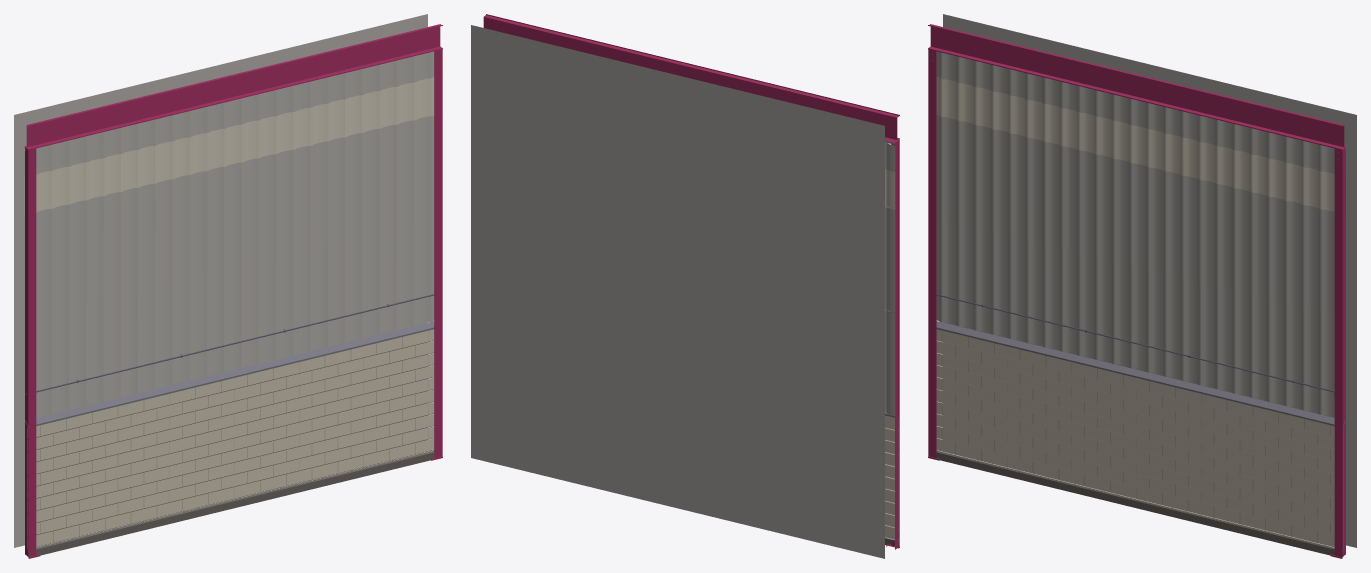
The model's file is hall_wall.glb.
3 renders of one model, left to right at view 1: azimuth 30°, elevation 25°; view 2: azimuth 150°, elevation 25°; view 3: azimuth 330°, elevation 25°, orthographic.
Visible parts, largest first — view 1: HallWall; view 2: HallWall; view 3: HallWall.
Part boxes in pixels (x1,y1,x2,y2): HallWall: [14, 14, 442, 558]; HallWall: [471, 14, 899, 558]; HallWall: [928, 14, 1356, 558].
Size of the model in its own units: 8 by 8 by 0.5.
